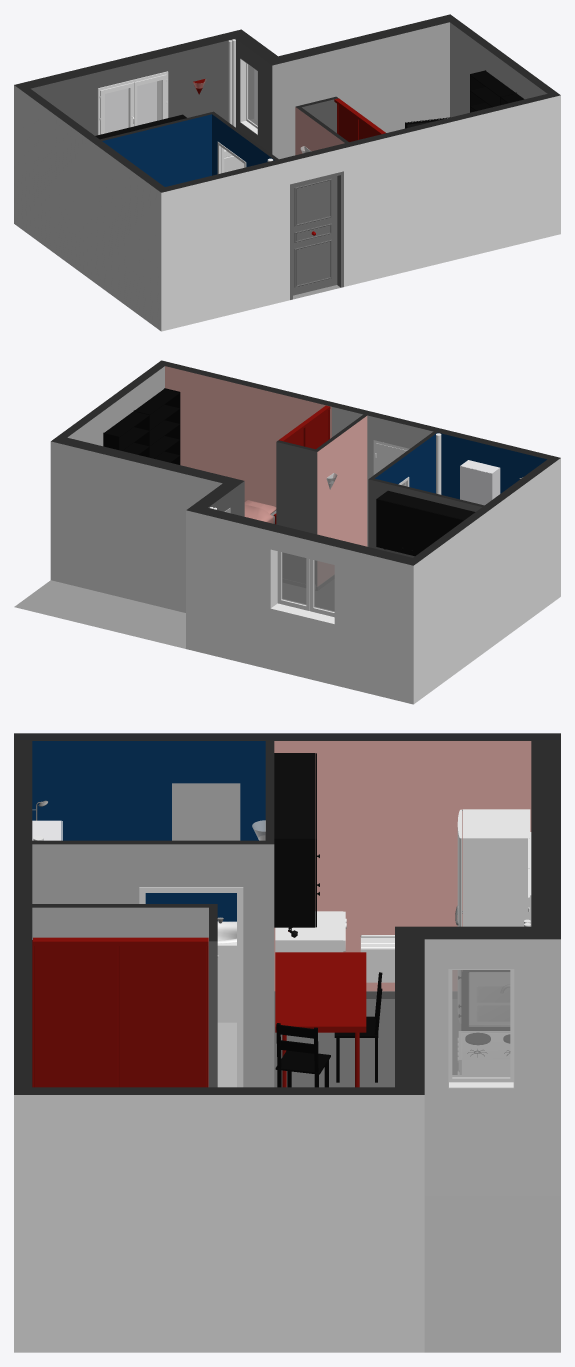
Rendered from estudio.obj.
3 renders of one model, top to bottom at view 1: azimuth 30°, elevation 25°; view 2: azimuth 150°, elevation 25°; view 3: azimuth 270°, elevation 25°, orthographic. The views are drawn at different scales.
Parts seen in each view (by area): view 1: wall_13_91, wall_12_84, wall_3_20, wall_10_70, wall_9_63, wall_1_6, sweethome3d_opening_on_hinge_1_doorOutside_455, wall_8_57, wall_14_97, wall_11_77, wall_4_27, wall_2_13 (+22 smaller); view 2: wall_1_5, wall_3_19, wall_13_92, wall_10_70, wall_9_63, wall_6_41, ground_1, wall_7_48, wall_12_85, wall_4_27, wall_5_34, frame_294 (+25 smaller); view 3: wall_4_26, wall_10_71, wall_2_12, ground_1, wall_9_64, wall_5_35, sweethome3d_opening_on_rail_1_door_371, sweethome3d_opening_on_rail_2_door_376, Corps_164, Plateau_321, sweethome3d_window_pane_107, wall_6_42 (+33 smaller).
Boxes of the visible parts, x1=… form: wall_13_91: x1=385, y1=95, x2=560, y2=276; wall_12_84: x1=161, y1=163, x2=281, y2=331; wall_3_20: x1=272, y1=22, x2=449, y2=159; wall_10_70: x1=14, y1=85, x2=92, y2=280; wall_9_63: x1=92, y1=142, x2=161, y2=330; wall_1_6: x1=31, y1=38, x2=235, y2=135; sweethome3d_opening_on_hinge_1_doorOutside_455: x1=293, y1=176, x2=337, y2=295; wall_8_57: x1=102, y1=114, x2=211, y2=186; wall_14_97: x1=352, y1=138, x2=385, y2=284; wall_11_77: x1=282, y1=146, x2=351, y2=301; wall_4_27: x1=450, y1=22, x2=547, y2=117; wall_2_13: x1=235, y1=39, x2=272, y2=153; wall_1_5: x1=186, y1=510, x2=413, y2=704; wall_3_19: x1=50, y1=441, x2=222, y2=612; wall_13_92: x1=165, y1=366, x2=331, y2=506; wall_10_70: x1=413, y1=508, x2=491, y2=703; wall_9_63: x1=492, y1=458, x2=560, y2=646; wall_6_41: x1=317, y1=416, x2=367, y2=585; ground_1: x1=14, y1=580, x2=185, y2=648; wall_7_48: x1=276, y1=442, x2=317, y2=586; wall_12_85: x1=438, y1=432, x2=546, y2=499; wall_4_27: x1=67, y1=366, x2=164, y2=446; wall_5_34: x1=375, y1=433, x2=437, y2=493; frame_294: x1=267, y1=546, x2=337, y2=627; wall_4_26: x1=14, y1=1095, x2=424, y2=1352; wall_10_71: x1=274, y1=741, x2=531, y2=991; wall_2_12: x1=424, y1=939, x2=560, y2=1196; ground_1: x1=424, y1=1196, x2=560, y2=1352; wall_9_64: x1=32, y1=741, x2=265, y2=921; wall_5_35: x1=32, y1=844, x2=274, y2=1087; sweethome3d_opening_on_rail_1_door_371: x1=119, y1=946, x2=206, y2=1087; sweethome3d_opening_on_rail_2_door_376: x1=34, y1=946, x2=117, y2=1087; Corps_164: x1=462, y1=809, x2=530, y2=926; Plateau_321: x1=275, y1=952, x2=366, y2=1032; sweethome3d_window_pane_107: x1=452, y1=970, x2=510, y2=1077; wall_6_42: x1=32, y1=907, x2=208, y2=1086.
Size of the model in its own units: 753 by 250 by 481.
